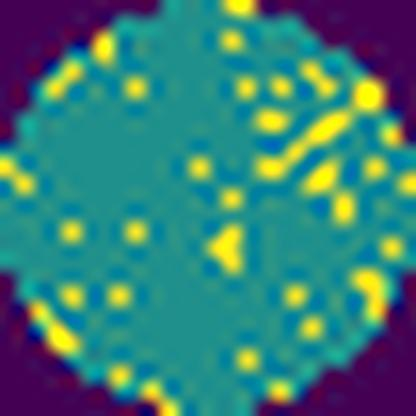Scratch: (251, 107, 354, 181)
